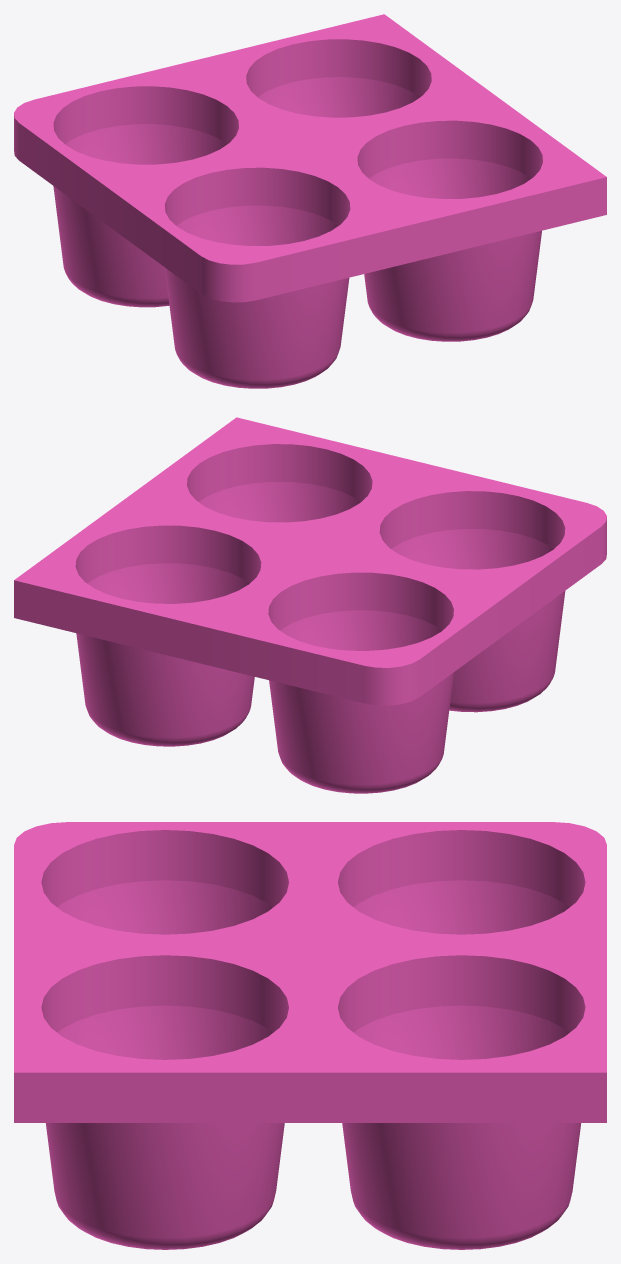
The model's file is Cupcake Tray Sort - Tray 2.fbx.
3 views of the same model, one above another, from view 1: azimuth 30°, elevation 25°; view 2: azimuth 150°, elevation 25°; view 3: azimuth 270°, elevation 25° (orthographic). The views are drawn at different scales.
Parts seen in each view (by area): view 1: tray 2; view 2: tray 2; view 3: tray 2.
Boxes of the visible parts, x1,y1,x2,y2 form: tray 2: (14,14,606,388); tray 2: (14,417,606,793); tray 2: (14,822,606,1249).
Size of the model in its own units: 0.0934 by 0.0934 by 0.0357.
